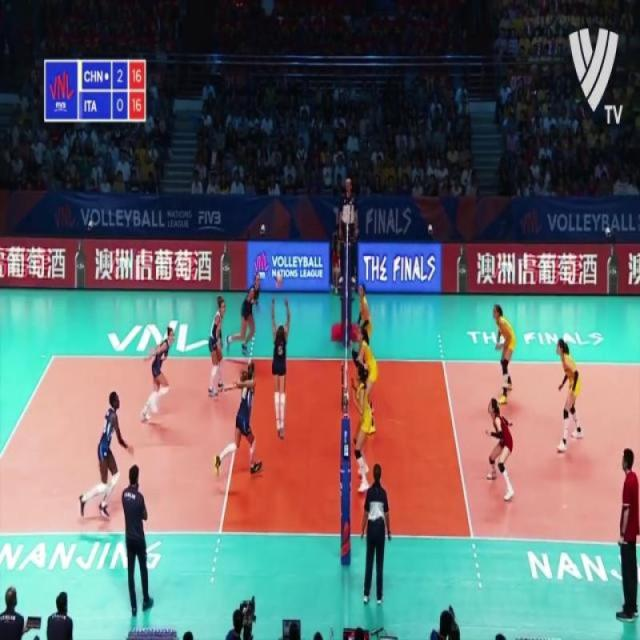volleyball: (275, 274, 284, 288)
